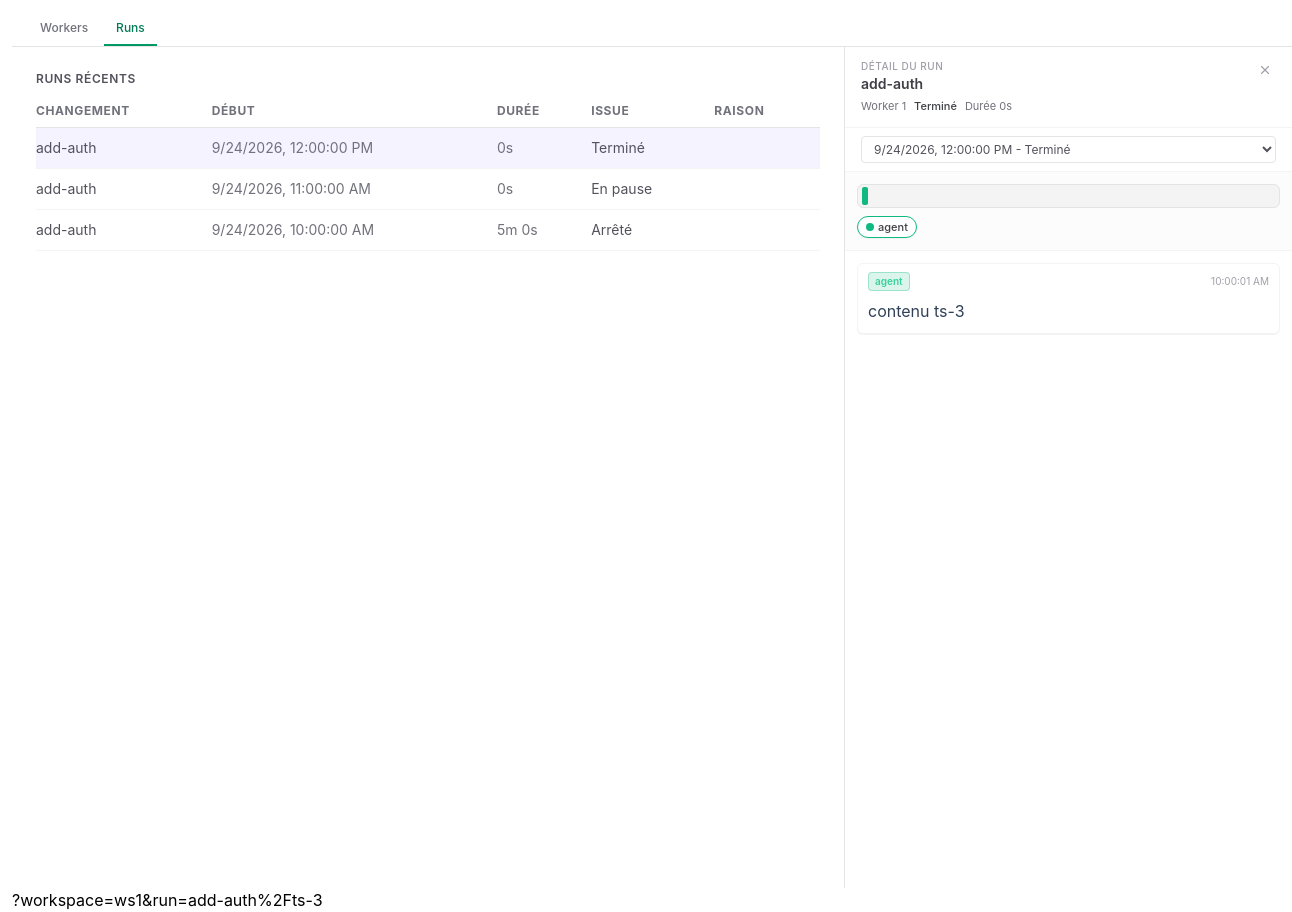
Scenario: AgentsPage interactions › offers a run selector for the change, newest first, and switches to an older run
This screenshot has width=1292, height=912.
Expected: the text "contenu ts-3" is shown, x1=868 y1=301 x2=965 y2=321
Select "9/24/2026, 10:00:00 AM - Arrêté" in the dropdown with test id "run-selector" at point(1068, 149), box x1=861 y1=136 x2=1276 y2=162
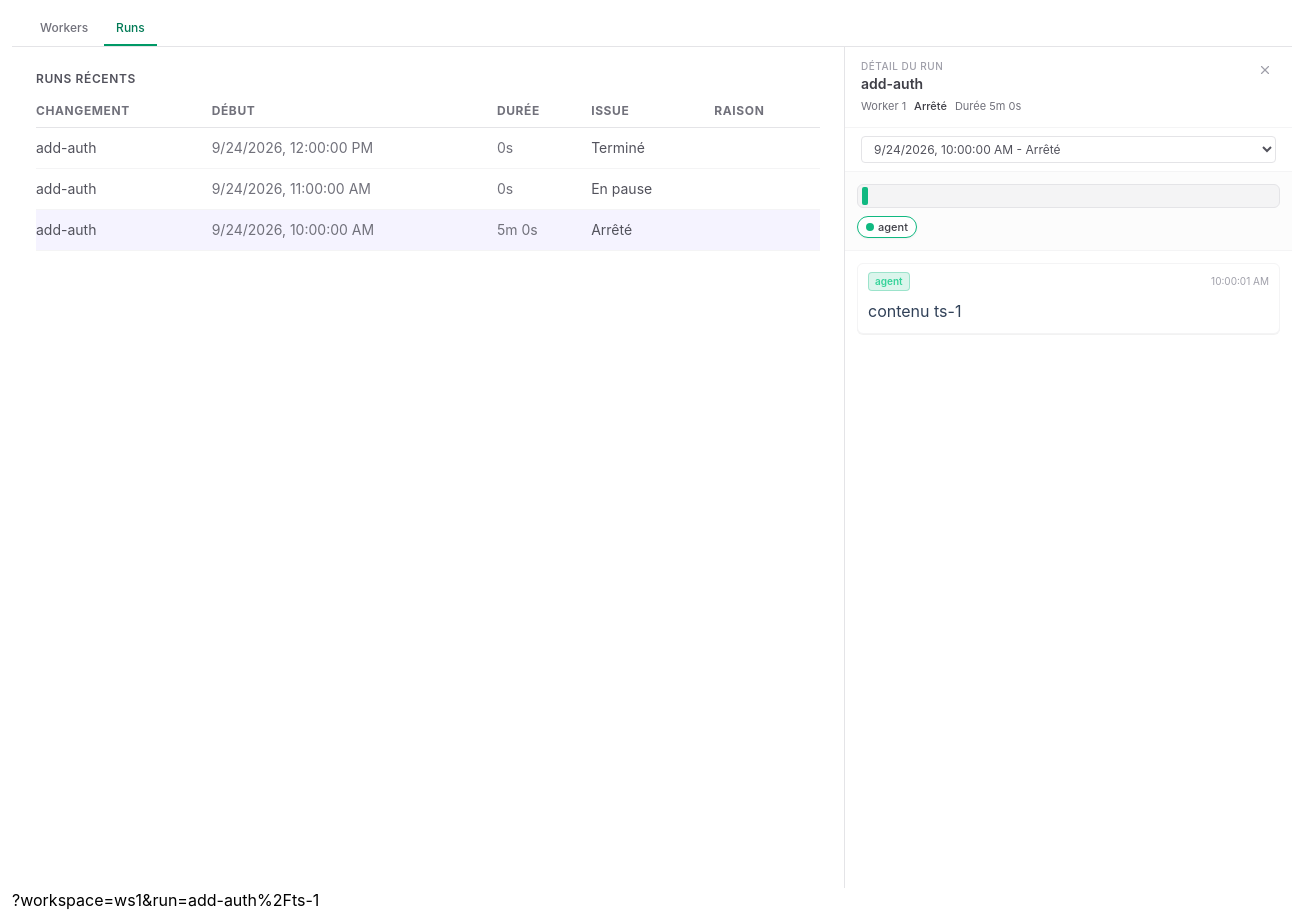
Expected: the text "contenu ts-1" is shown, x1=868 y1=301 x2=961 y2=321
